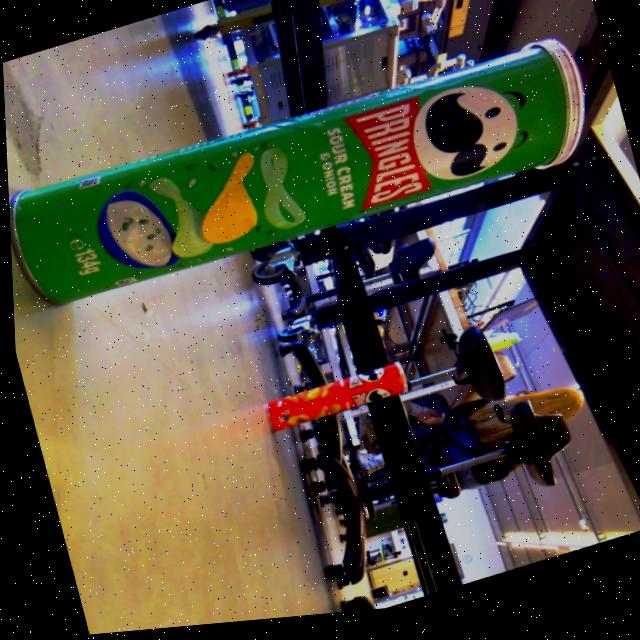greenpringles: (2, 19, 625, 343)
redpringles: (238, 350, 419, 460)
